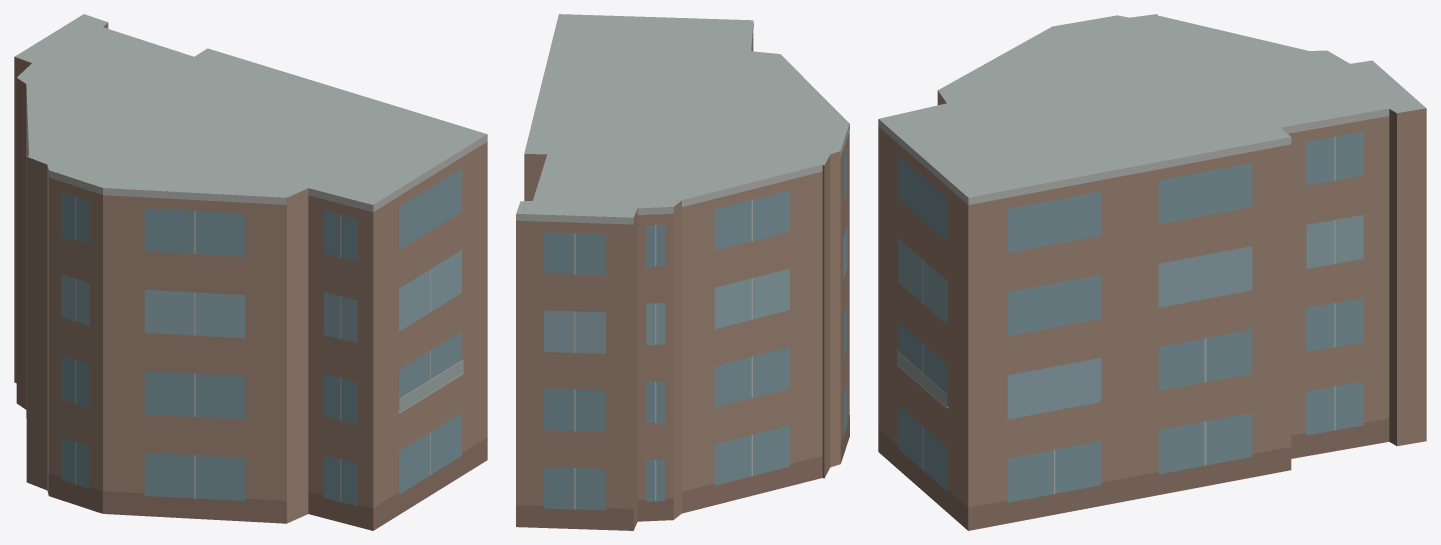
Rendered from survey-upis-33013967.glb.
3 views of the same model, side by side, from view 1: azimuth 30°, elevation 25°; view 2: azimuth 150°, elevation 25°; view 3: azimuth 270°, elevation 25° (orthographic). The views are drawn at different scales.
Visible parts, largest first — view 1: survey-upis-33013967.tmp; view 2: survey-upis-33013967.tmp; view 3: survey-upis-33013967.tmp.
Part boxes in pixels (x1,y1,x2,y2): survey-upis-33013967.tmp: (14,14,487,530); survey-upis-33013967.tmp: (516,14,849,530); survey-upis-33013967.tmp: (878,14,1426,530).
Size of the model in its own units: 13.15 by 11.1 by 16.57.
